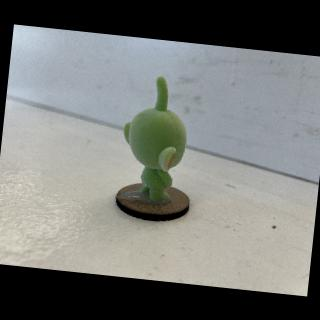teletubby: (123, 76, 186, 200)
